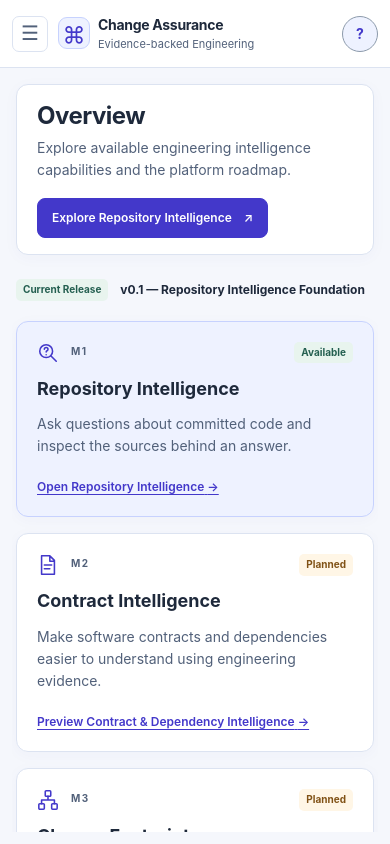
Scenario: replaces an open navigation drawer when history opens a Help topic
This screenshot has width=390, height=844.
Click the button named "Open platform navigation". click: (30, 34)
box: x1=12 y1=16 x2=48 y2=52
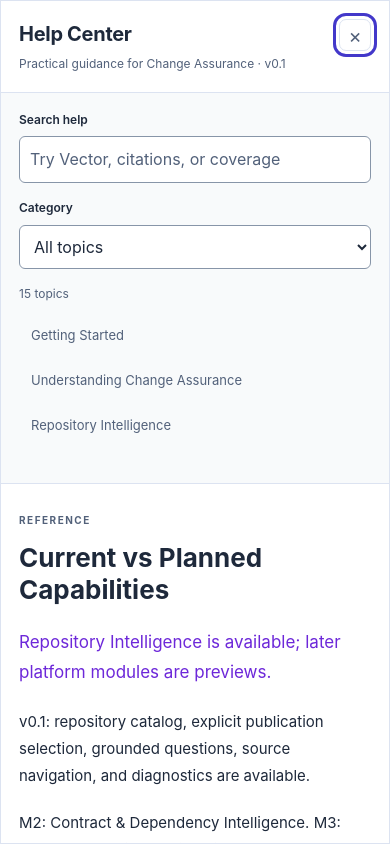
Expected: the dialog "Help Center" is shown
